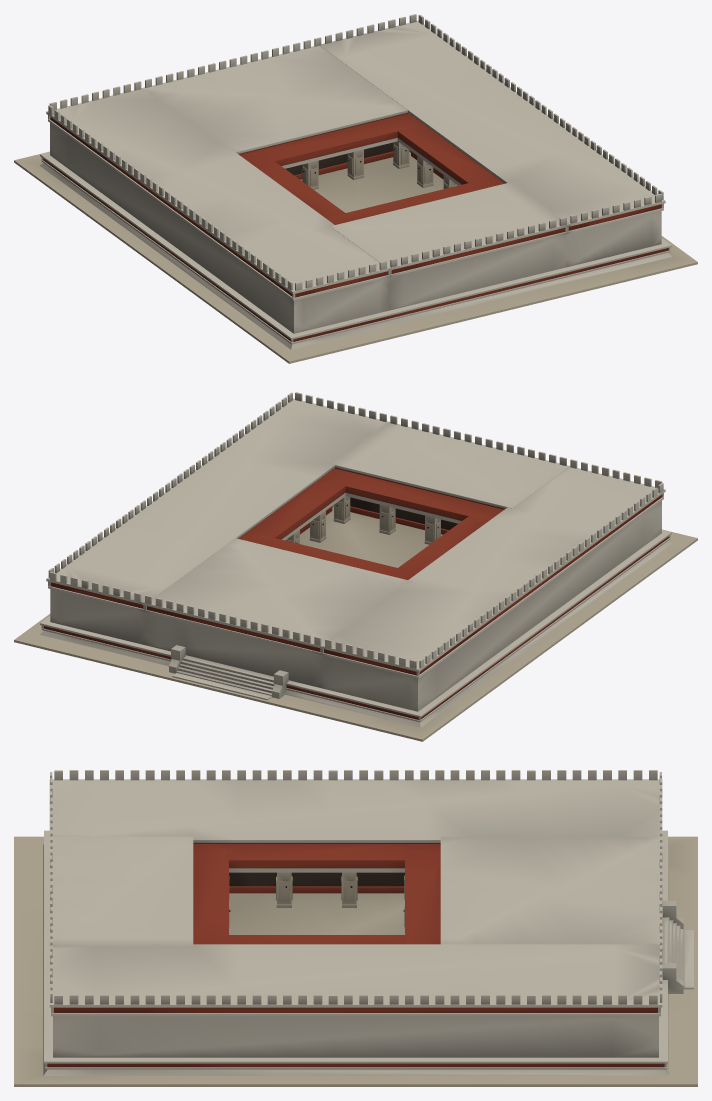
The model's file is palace-of-quetzalpapalotl.glb.
3 views of the same model, one above another, from view 1: azimuth 30°, elevation 25°; view 2: azimuth 150°, elevation 25°; view 3: azimuth 270°, elevation 25° (orthographic). The views are drawn at different scales.
Visible parts, largest first — view 1: p2_roof, p0_ground, p1_rooms; view 2: p2_roof, p1_rooms, p0_ground; view 3: p2_roof, p0_ground, p1_rooms.
Part boxes in pixels (bbox=[...]): p2_roof: bbox=[46, 14, 665, 300]; p0_ground: bbox=[14, 151, 697, 363]; p1_rooms: bbox=[50, 123, 661, 333]; p2_roof: bbox=[46, 392, 665, 678]; p1_rooms: bbox=[50, 496, 661, 711]; p0_ground: bbox=[14, 507, 697, 741]; p2_roof: bbox=[49, 770, 662, 1016]; p0_ground: bbox=[14, 830, 697, 1086]; p1_rooms: bbox=[53, 872, 693, 1057].
Bounding box in the file's own units: 60 × 9.04 × 70.
